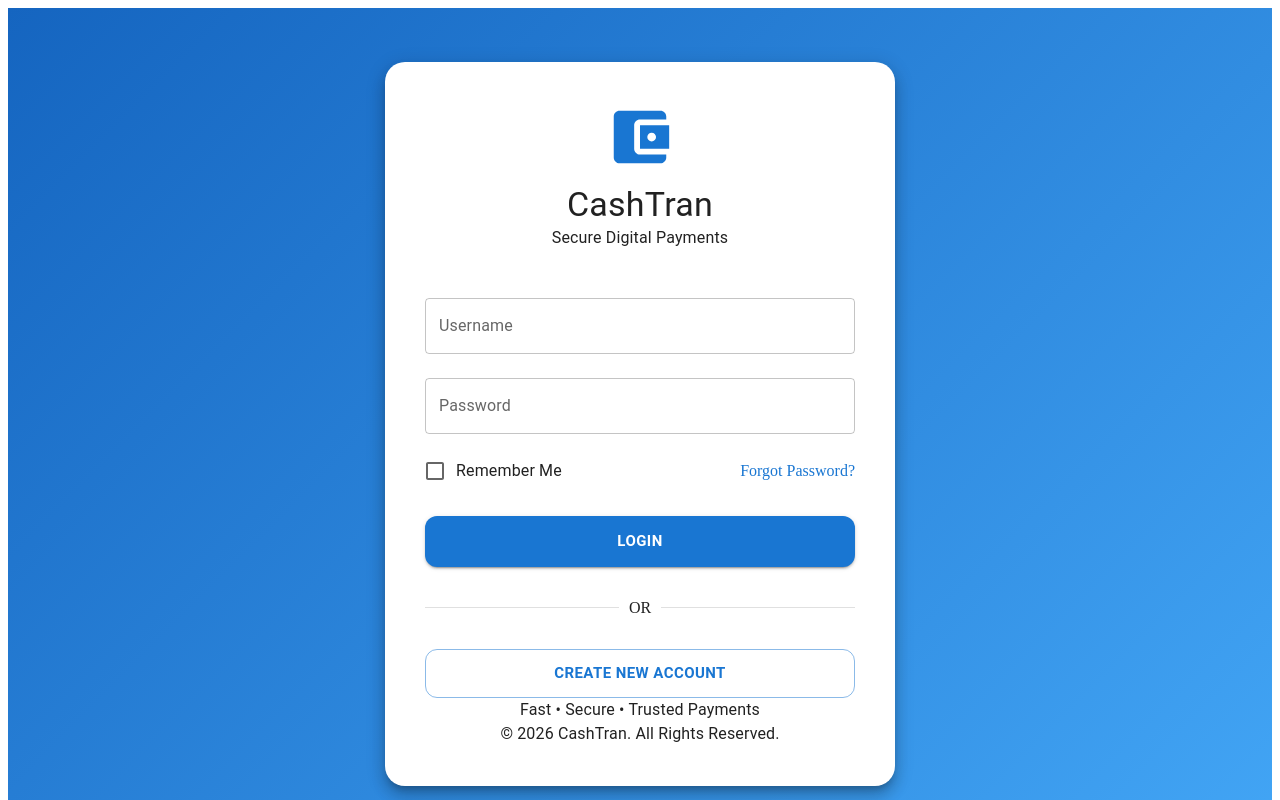
Test case: Login › shows the authentication error returned by the login action
Type "alice" into the field labelled "Username". click: (640, 326)
box: [425,298,855,354]
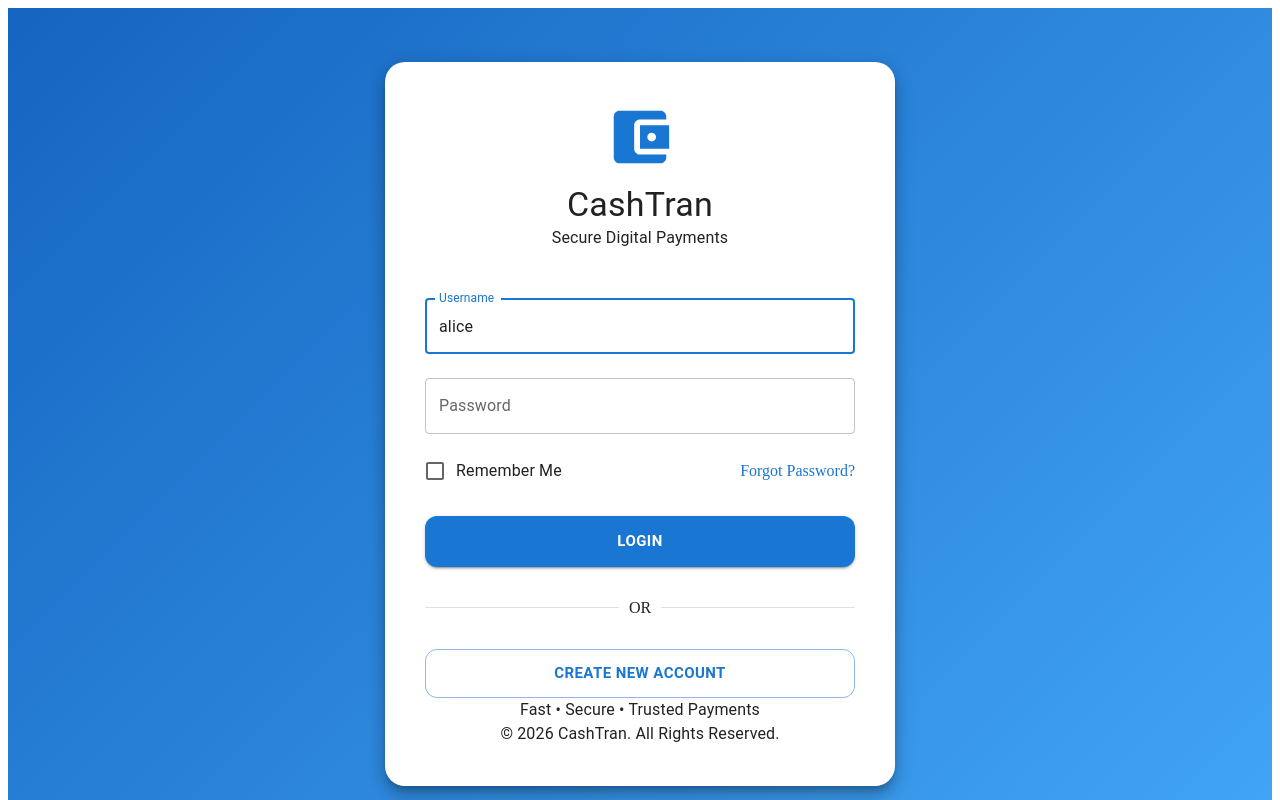
Type "wrong-password" into the password field labelled "Password". click: (640, 406)
box: [425,378,855,434]
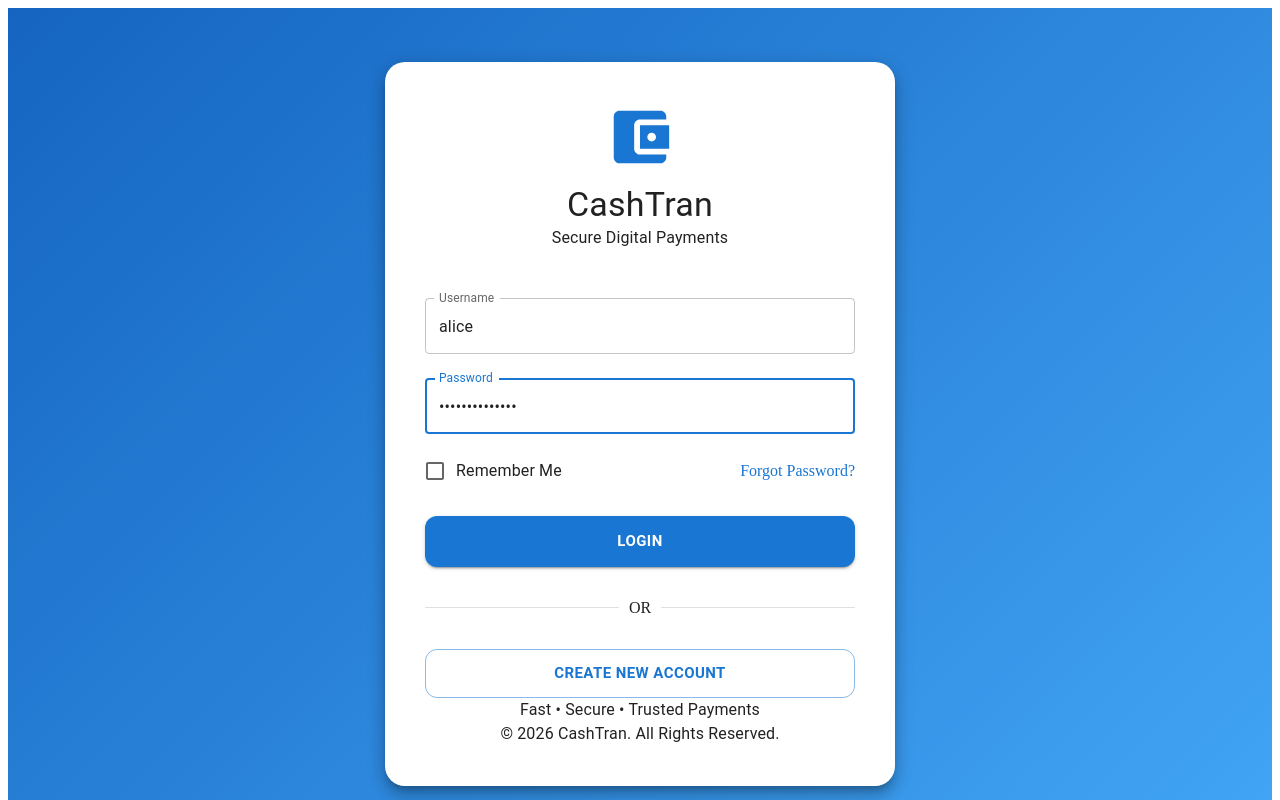
Click the button "Login". click: click(640, 541)
box: [425,516,855,567]
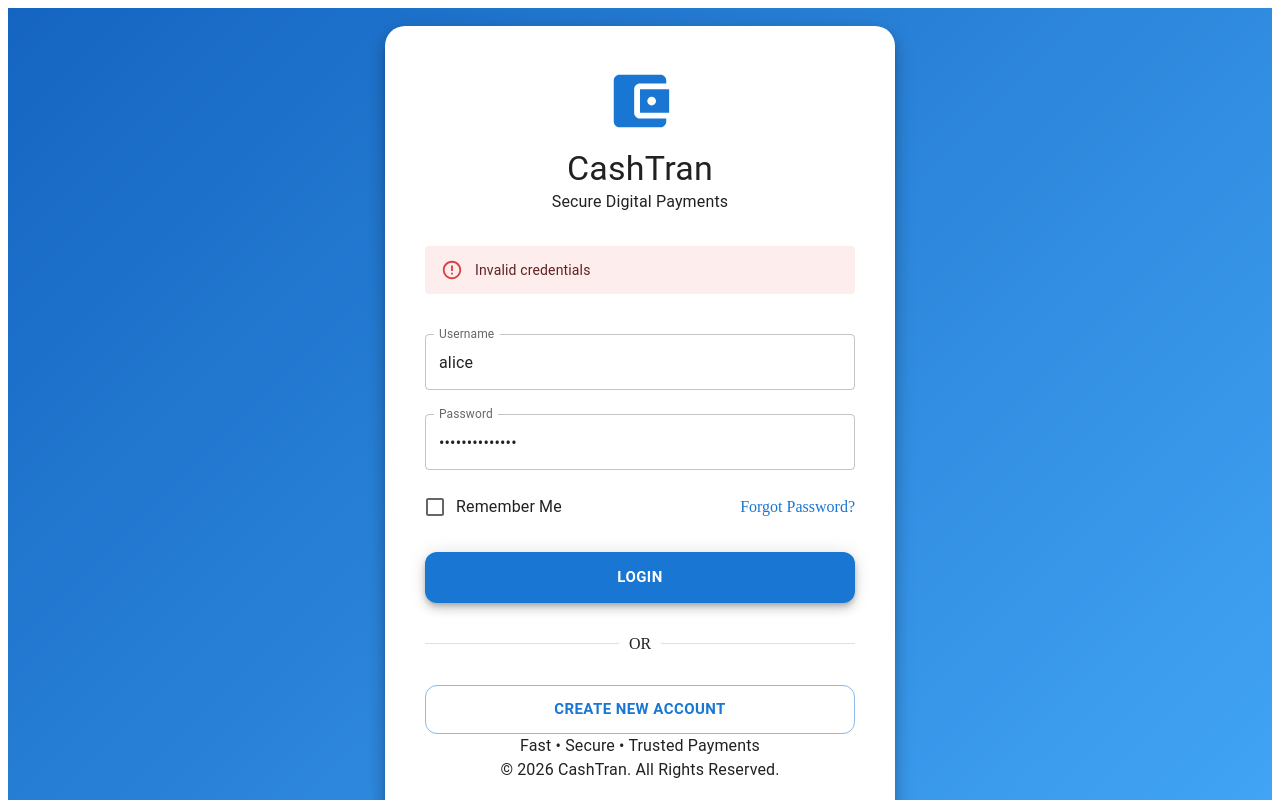
Expected: the text "Invalid credentials" is shown, [475,262,590,278]
